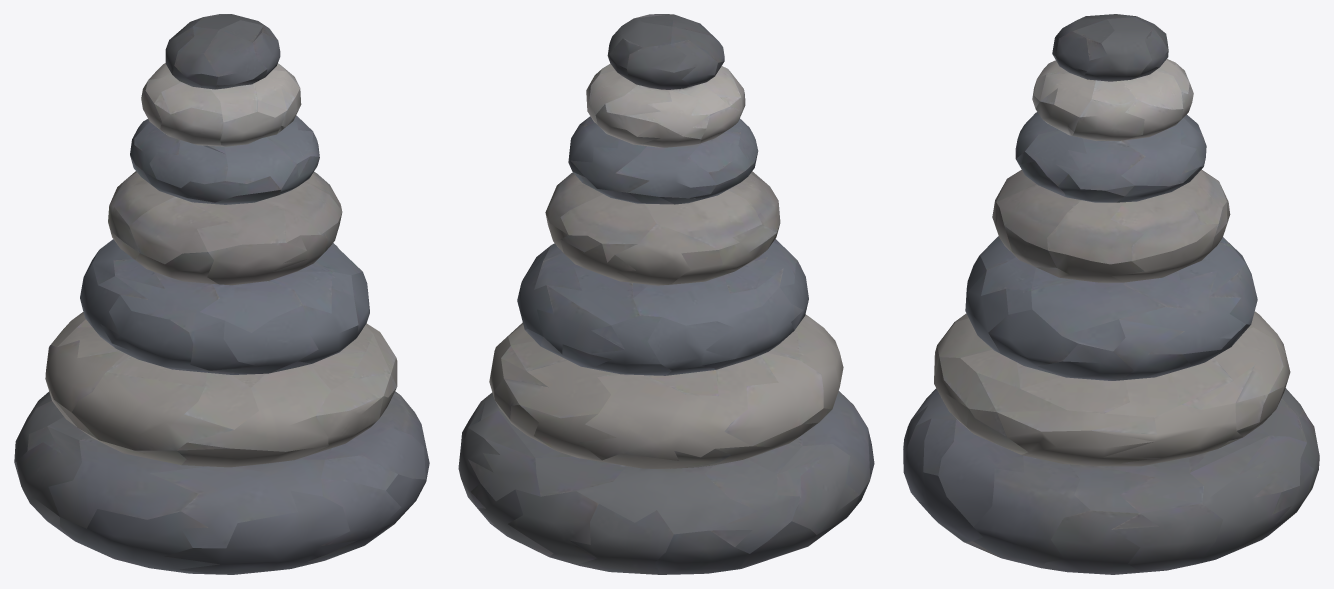
File: rock-cairn.glb
3 renders of one model, left to right at view 1: azimuth 30°, elevation 25°; view 2: azimuth 150°, elevation 25°; view 3: azimuth 270°, elevation 25°, orthographic.
Visible parts, largest first — view 1: rock-cairn-fit; view 2: rock-cairn-fit; view 3: rock-cairn-fit.
Boxes of the visible parts, x1,y1,x2,y2 form: rock-cairn-fit: (14,14,429,574); rock-cairn-fit: (458,14,874,574); rock-cairn-fit: (903,14,1319,574).
Size of the model in its own units: 0.8447 by 1.1 by 0.8451.
Materials: 1 (1 with a texture image).
